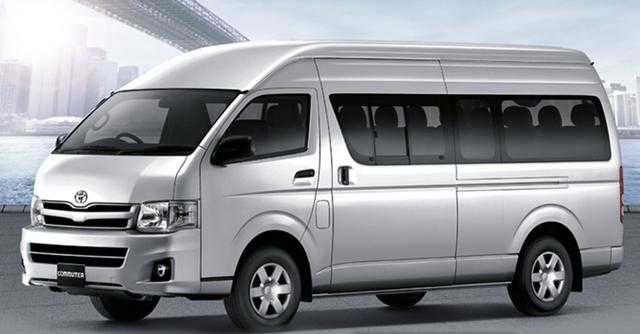van: (19, 39, 625, 334)
